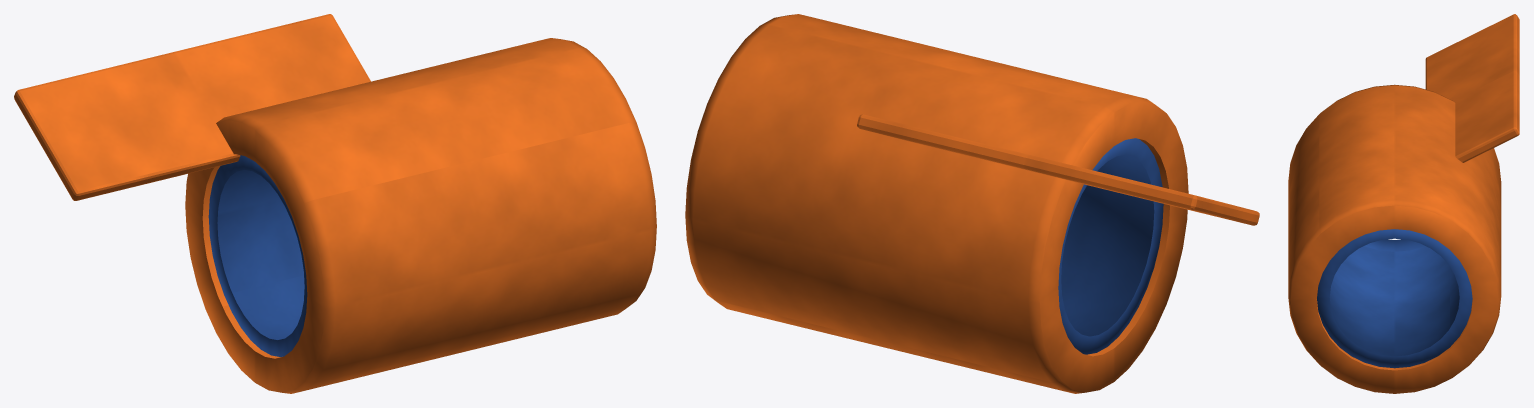
Rendered from splint.glb.
The picture shows the model from 3 angles, left to right: view 1: azimuth 30°, elevation 25°; view 2: azimuth 150°, elevation 25°; view 3: azimuth 270°, elevation 25°; orthographic projection. The views are drawn at different scales.
Parts seen in each view (by area): view 1: roll_o, flap, roll_i; view 2: roll_o, roll_i, flap; view 3: roll_o, roll_i, flap.
Boxes of the visible parts, x1,y1,x2,y2 form: roll_o: (185,38,656,393); flap: (14,14,370,200); roll_i: (208,155,307,356); roll_o: (685,14,1188,393); roll_i: (1058,138,1163,354); flap: (857,114,1259,225); roll_o: (1288,84,1501,393); roll_i: (1317,229,1472,368); flap: (1425,14,1519,162).
Bounding box in the file's own units: 0.1625 × 0.0869 × 0.0891.
2 materials, 2 textured.
